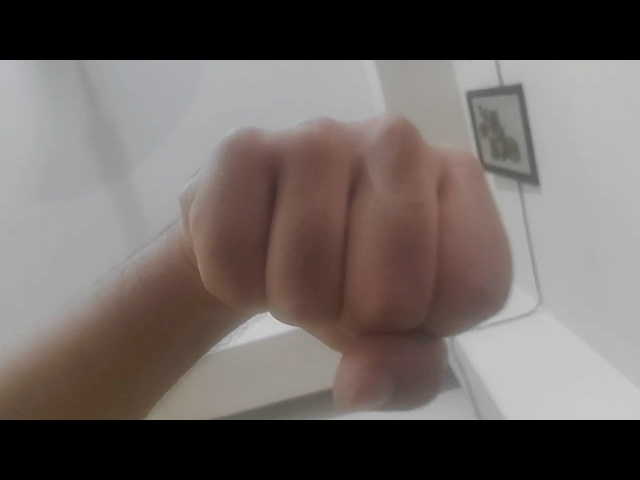Yes: (143, 105, 518, 413)
